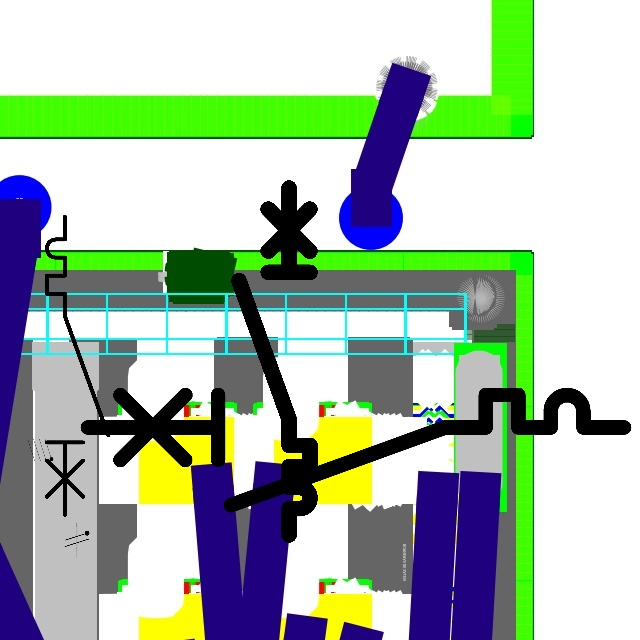interruptor_termomagnetico: (73, 381, 637, 519), (230, 179, 319, 544), (39, 209, 115, 523)
